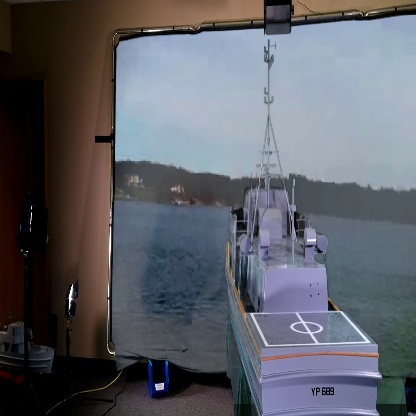YP689: (225, 45, 383, 416)
